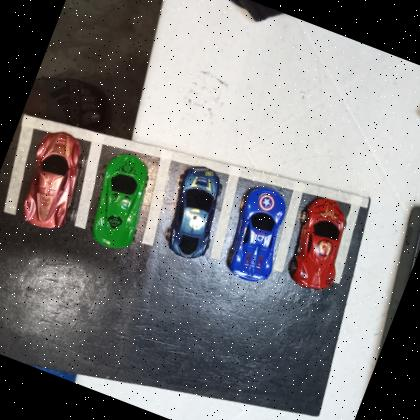Car: (10, 124, 102, 238), (77, 146, 164, 256), (214, 179, 301, 289), (277, 191, 362, 298), (153, 158, 236, 266)
